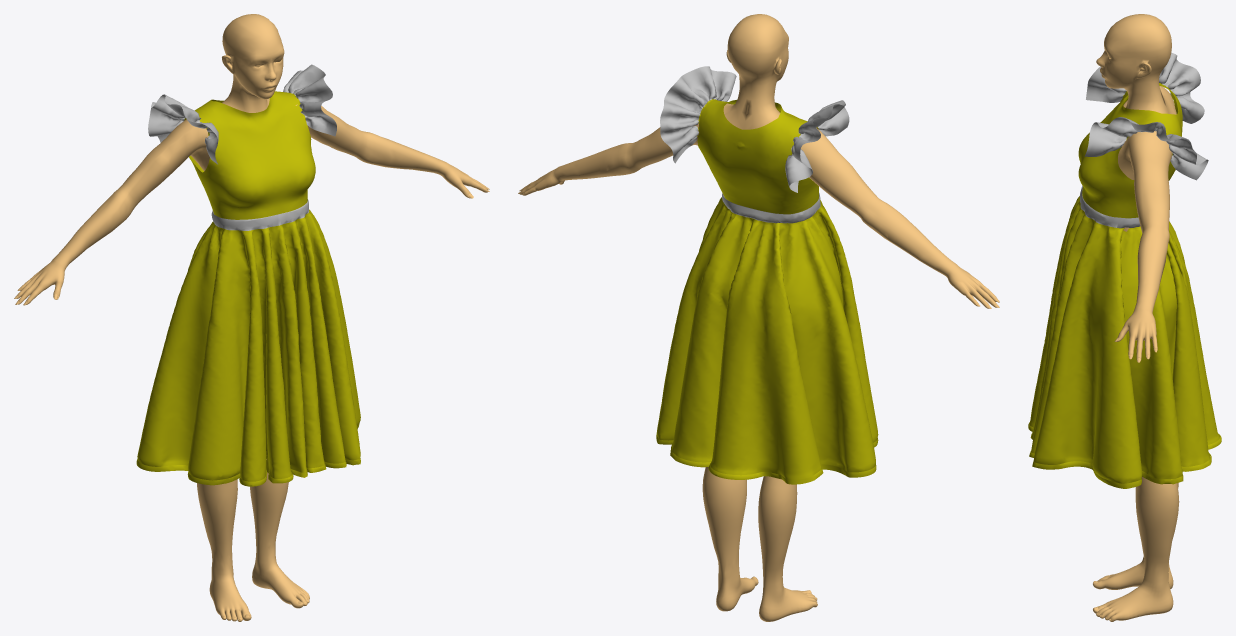
File: dress10.glb
3 views of the same model, side by side, from view 1: azimuth 30°, elevation 25°; view 2: azimuth 150°, elevation 25°; view 3: azimuth 270°, elevation 25° (orthographic).
Visible parts, largest first — view 1: PinkDrees#14 (OBJ), Body; view 2: PinkDrees#14 (OBJ), Body; view 3: PinkDrees#14 (OBJ), Body.
Boxes of the visible parts, x1,y1,x2,y2 form: PinkDrees#14 (OBJ): (136, 64, 360, 486); Body: (16, 14, 489, 621); PinkDrees#14 (OBJ): (656, 66, 878, 484); Body: (519, 14, 996, 621); PinkDrees#14 (OBJ): (1028, 52, 1221, 488); Body: (1093, 14, 1179, 621).
Bounding box in the file's own units: 1.58 × 1.85 × 0.5546.
